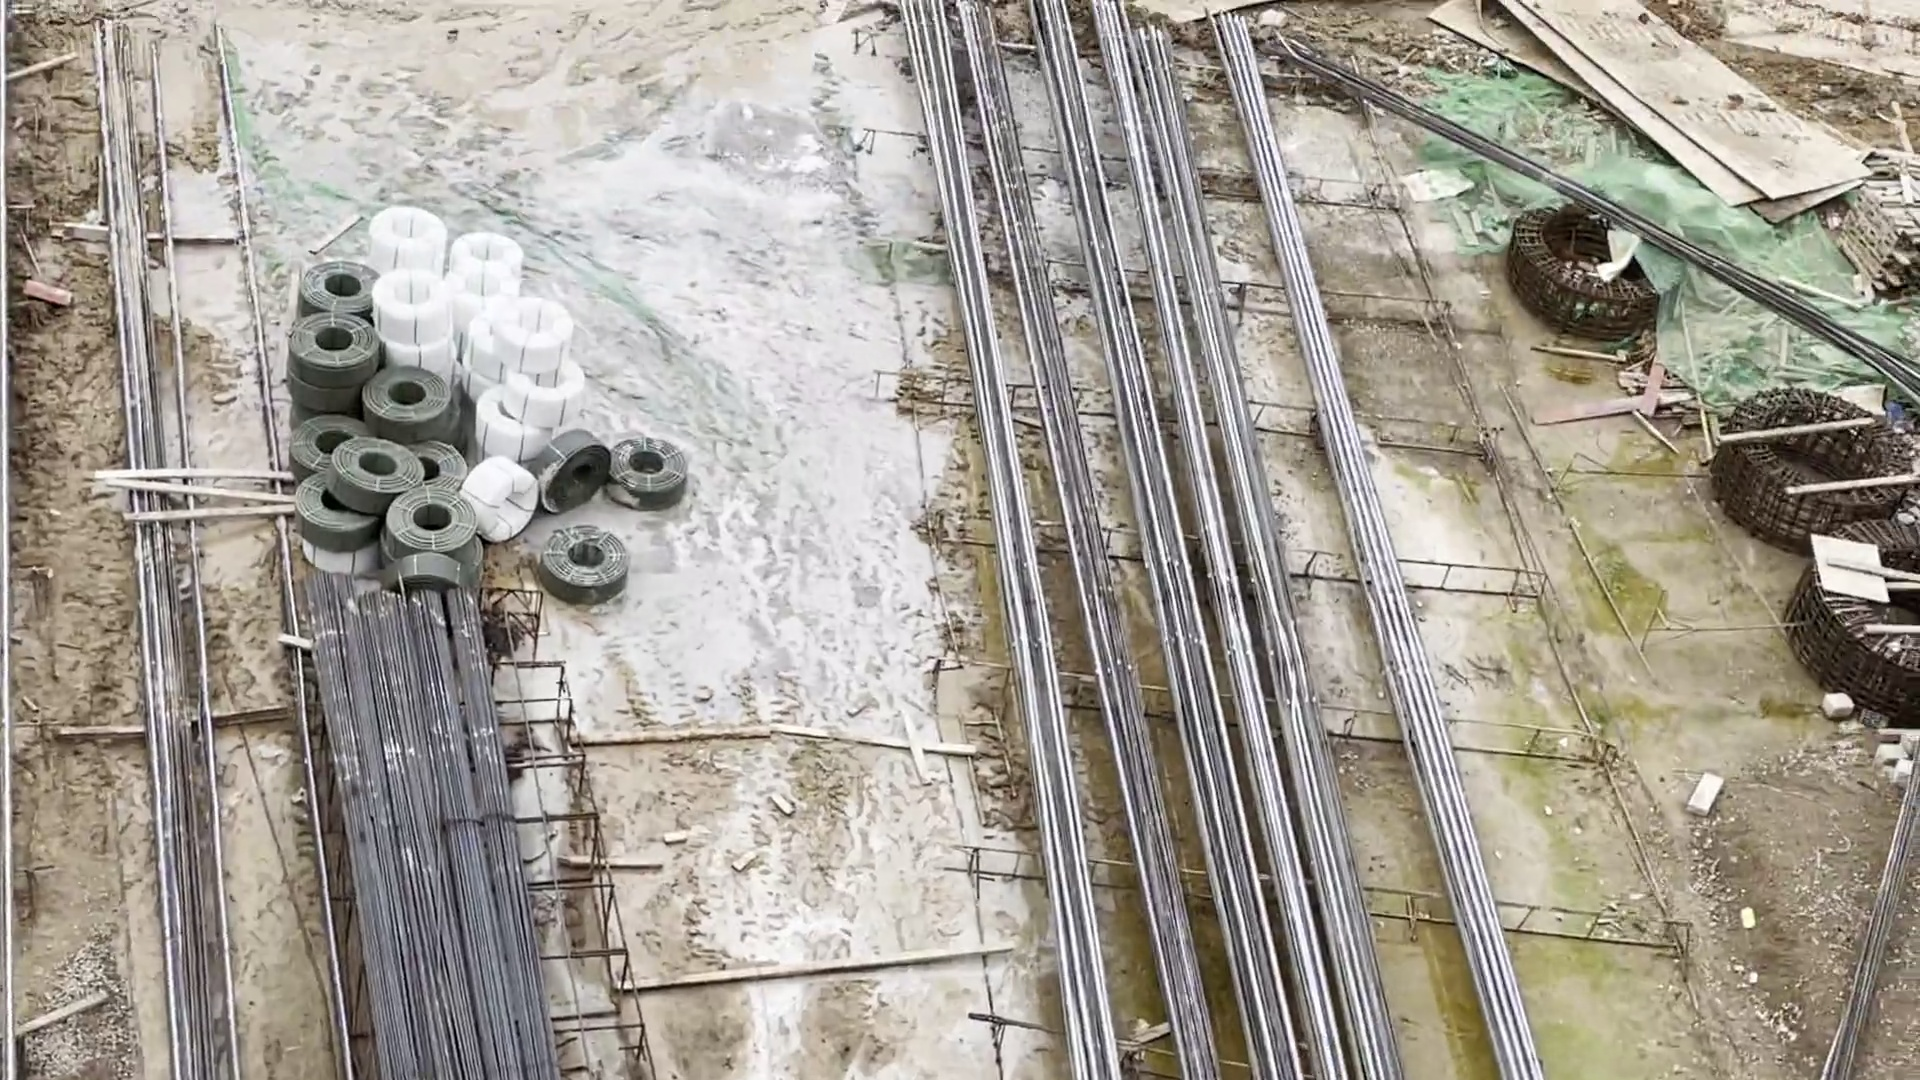rebar: (971, 1, 1313, 1080), (307, 564, 558, 1080)
